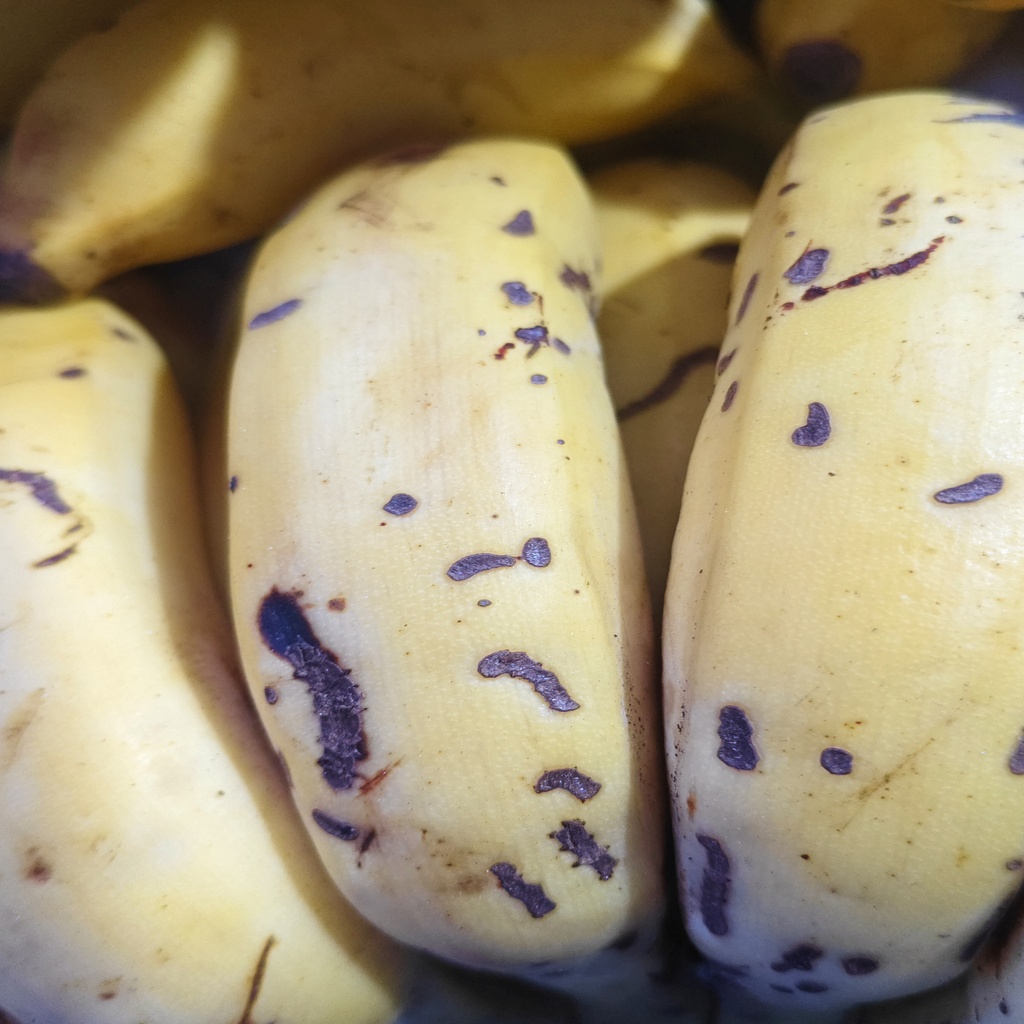unhealthy: (210, 138, 655, 972), (668, 87, 1024, 993)
